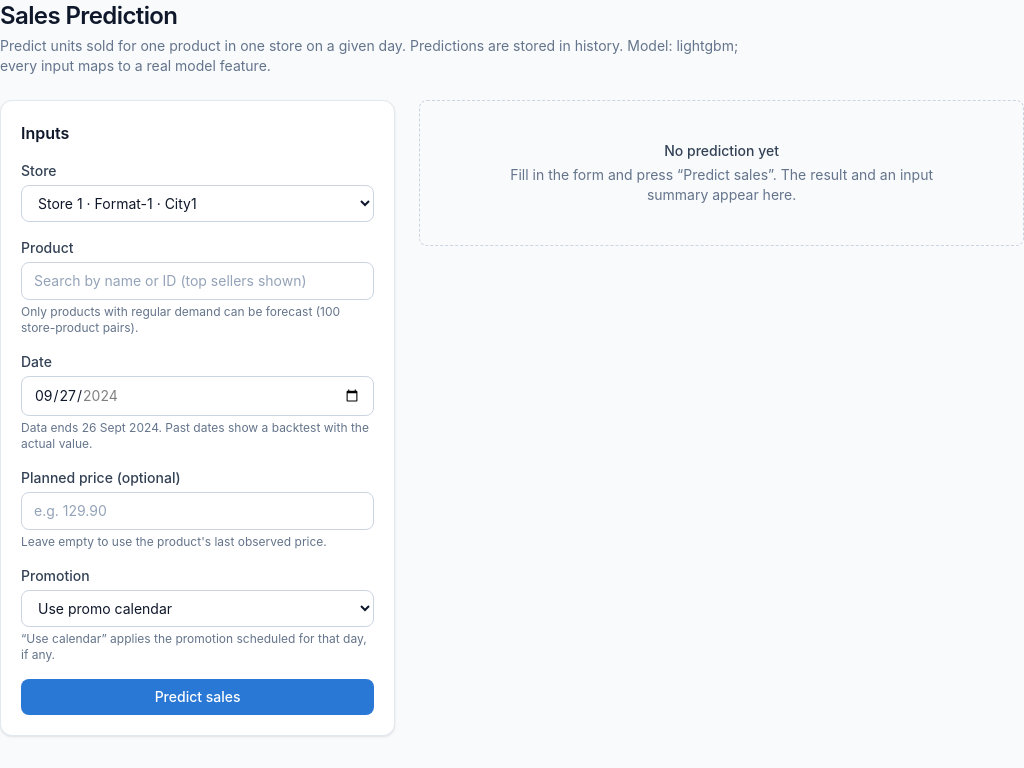
Test: Predict page › submits the selected inputs and renders the result with an input summary
The width and height of the screenshot is (1024, 768).
Click the dropdown with placeholder "Search by name or ID (top sellers shown)". click: (198, 281)
box: [21,262,374,300]
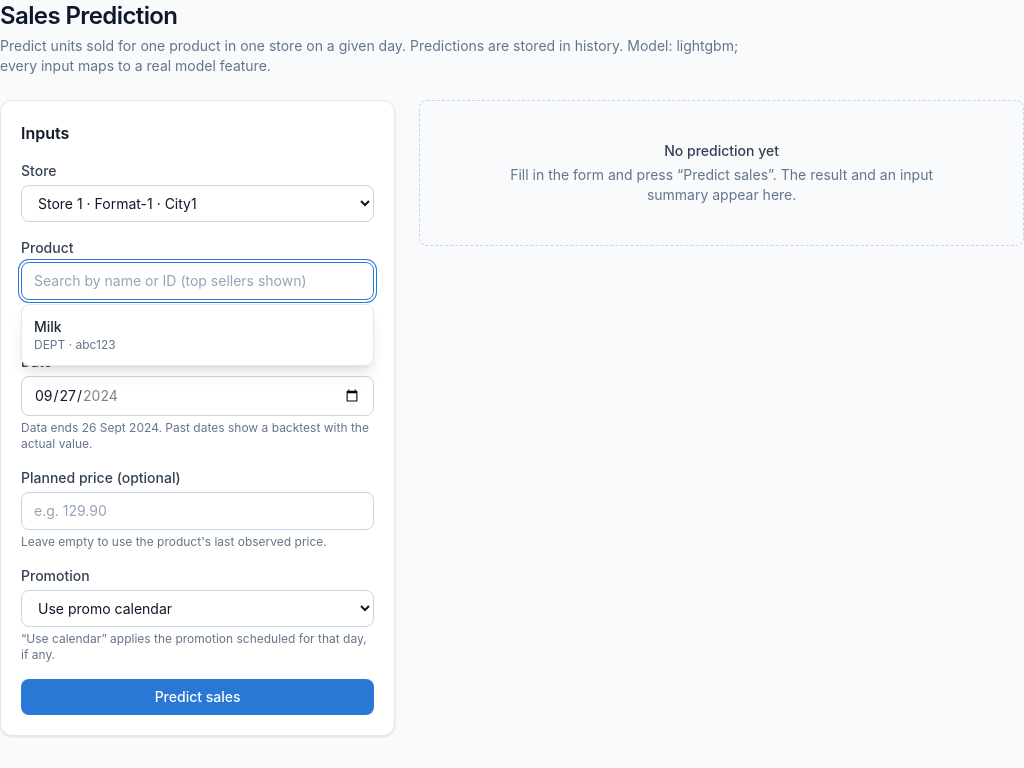
Press the mouse on the option "Milk DEPT · abc123" at (75, 335), box [34,318,116,352]
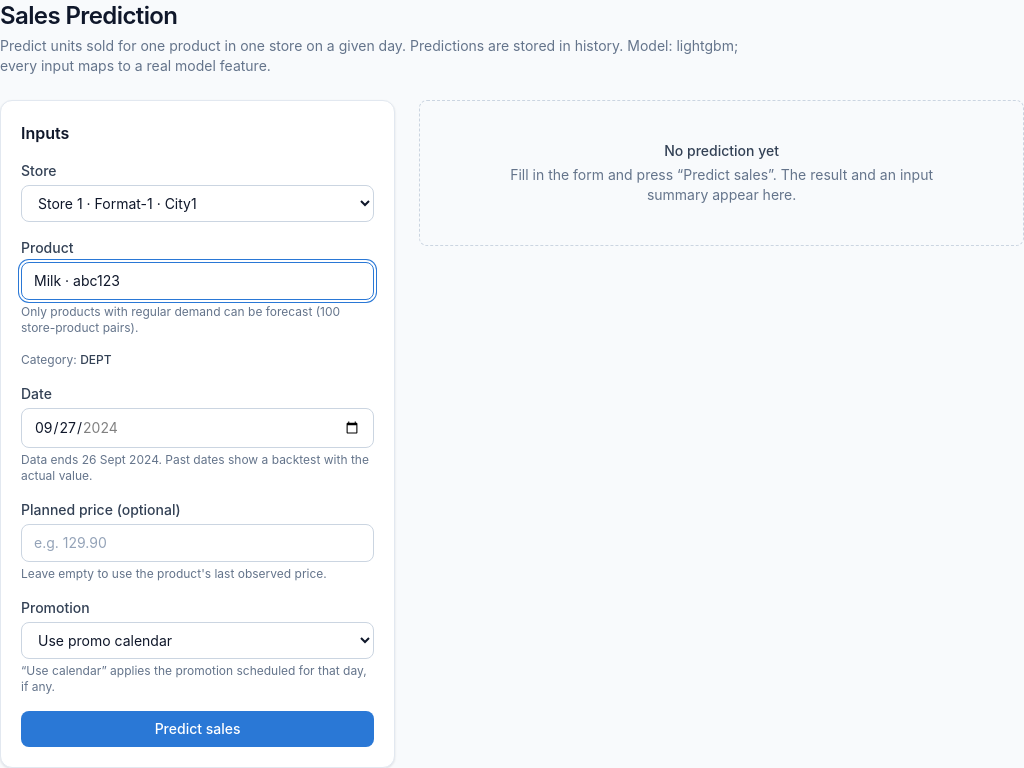
Click the button "Predict sales". click: (198, 729)
box: [21,711,374,747]
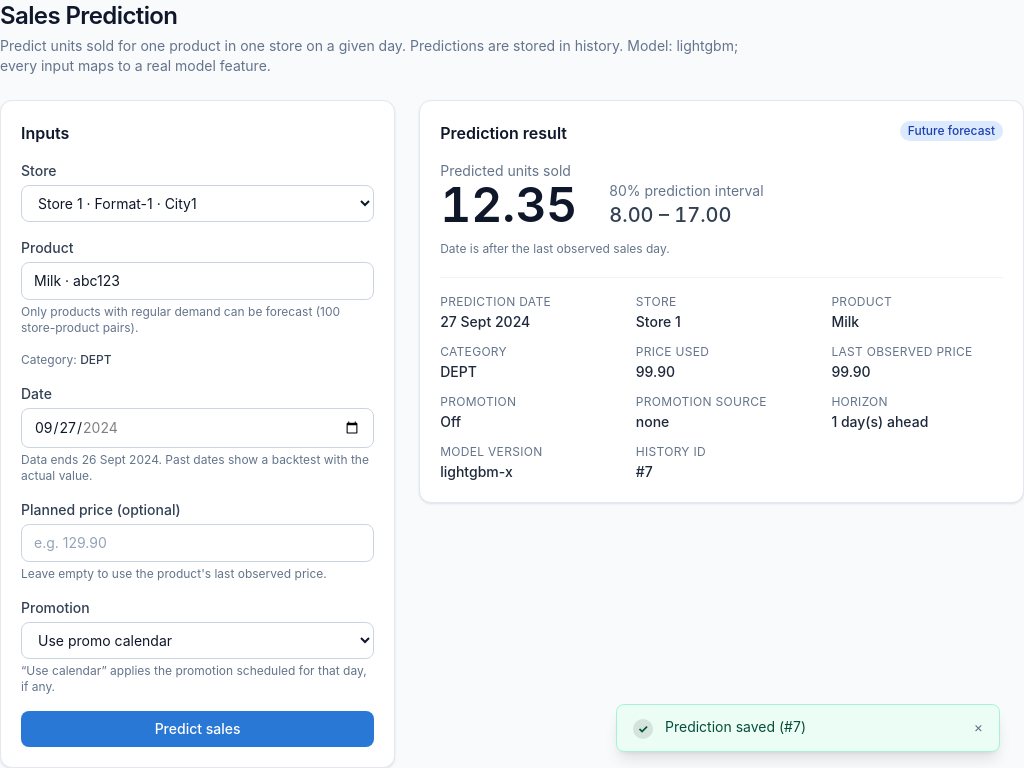
Check: the text with test id "predicted-value" reads "12.35", box [440,175,577,234]
Check: the text "80% prediction interval" is shown, box [609,181,764,201]
Check: the text "Future forecast" is shown, box [900,121,1003,141]
